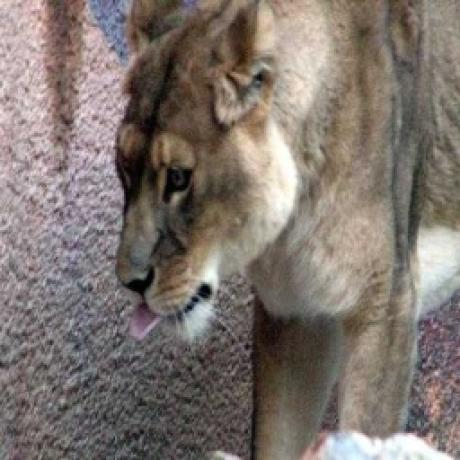Lion: (111, 0, 460, 460)
